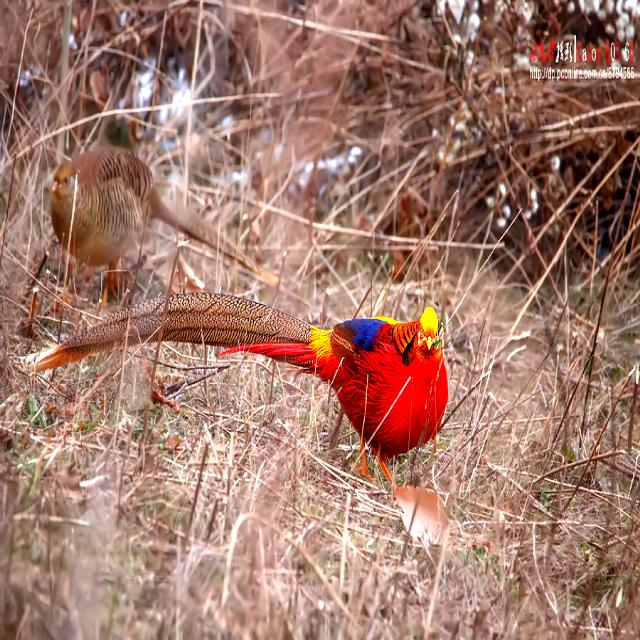Chrysolophus pictus feather: (31, 299, 163, 371), (161, 293, 310, 347)
